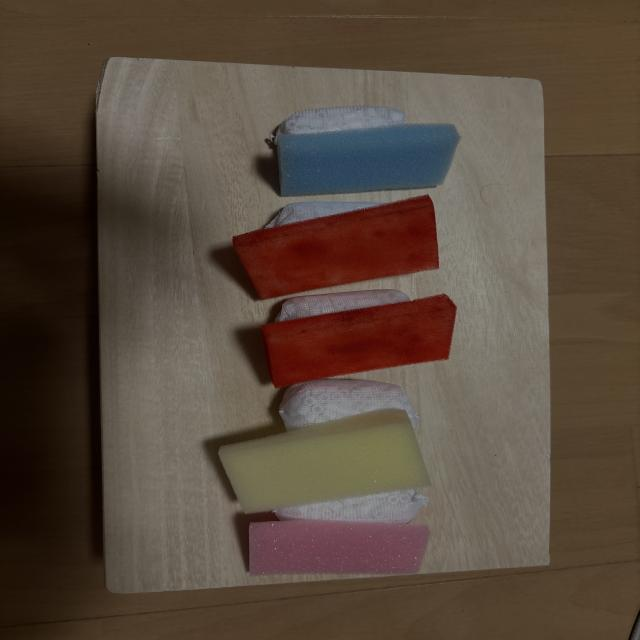NG: (219, 380, 429, 513), (233, 195, 439, 299), (261, 290, 456, 388), (275, 106, 460, 196), (249, 489, 429, 575)
